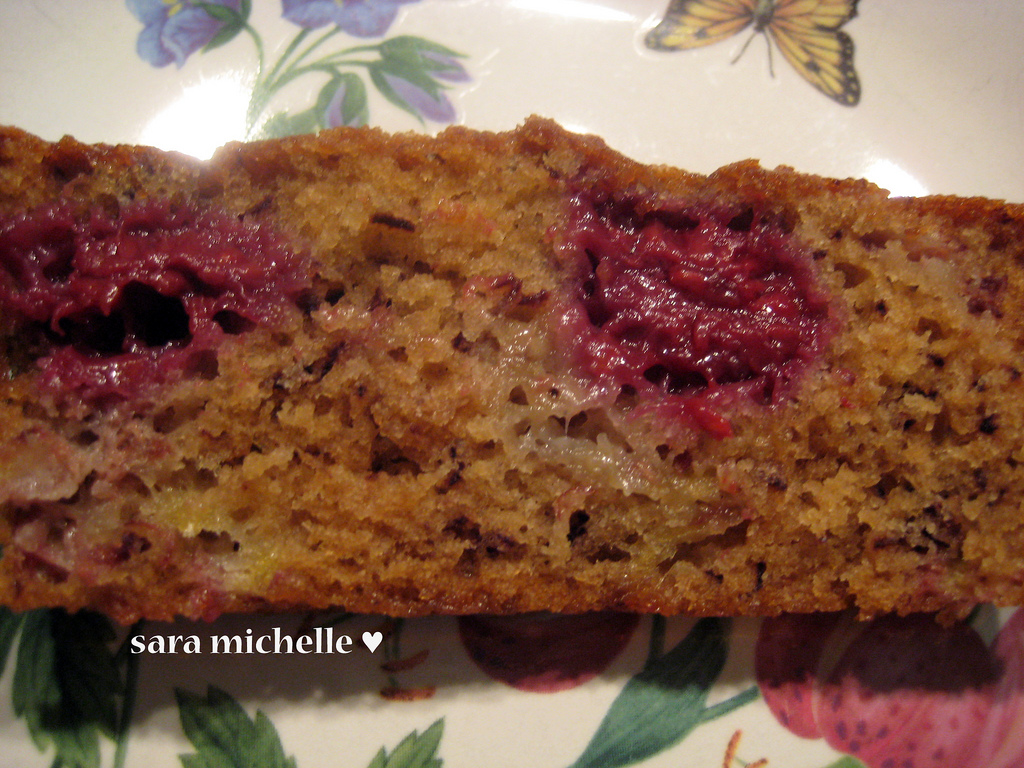slice of bread: (7, 112, 1024, 649)
